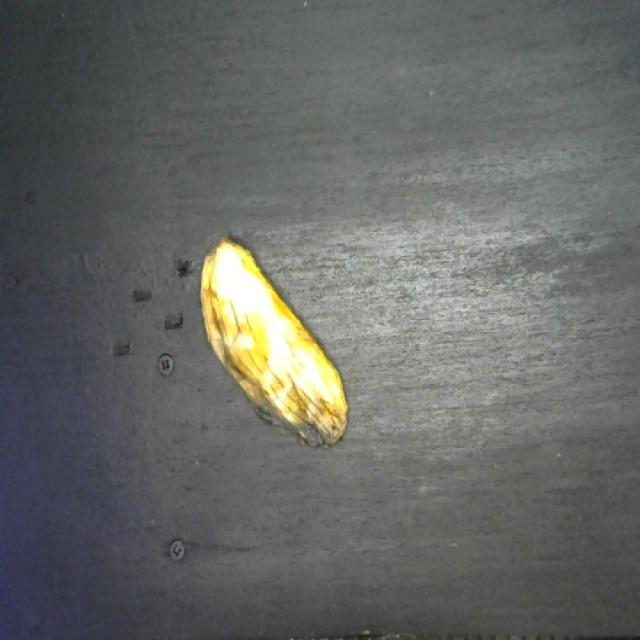biodegradable: (198, 233, 356, 454)
